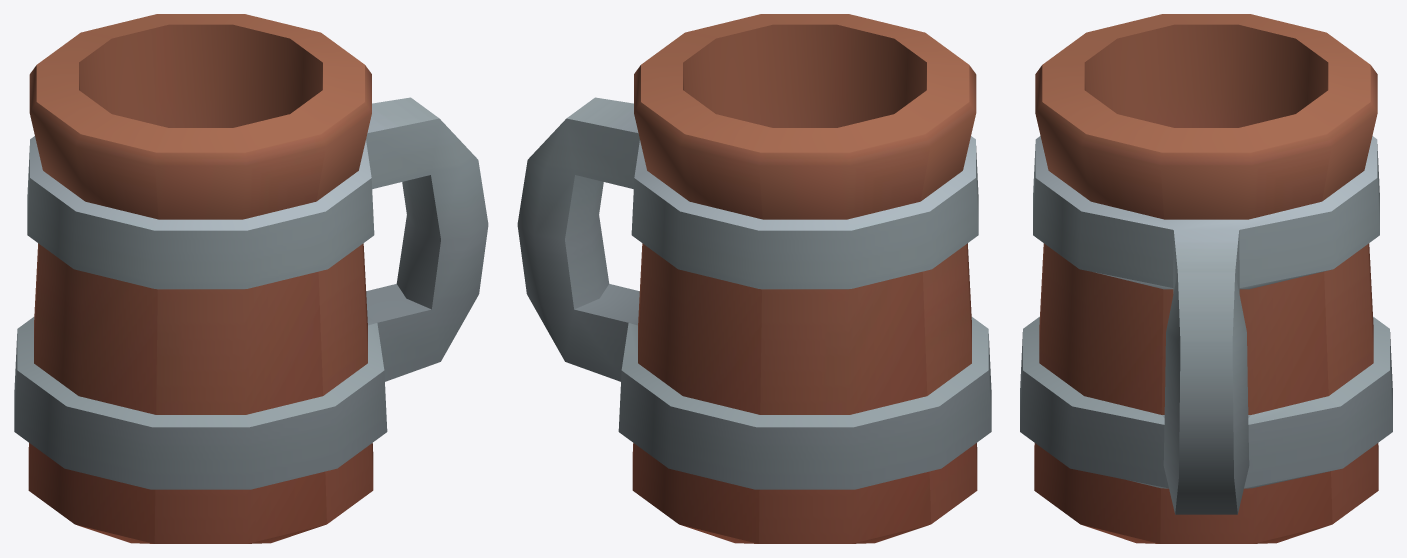
The model's file is kaykit-mug-empty.glb.
3 views of the same model, side by side, from view 1: azimuth 30°, elevation 25°; view 2: azimuth 150°, elevation 25°; view 3: azimuth 270°, elevation 25° (orthographic).
Visible parts, largest first — view 1: mug_empty; view 2: mug_empty; view 3: mug_empty.
Part boxes in pixels (x1=…): mug_empty: x1=14, y1=14, x2=488, y2=543; mug_empty: x1=517, y1=14, x2=991, y2=543; mug_empty: x1=1020, y1=14, x2=1392, y2=543.
Bounding box in the file's own units: 0.5342 × 0.4868 × 0.396.
1 material, 1 textured.
